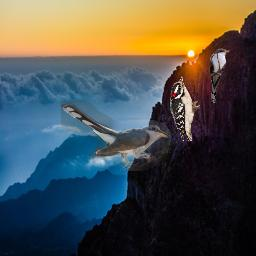Cuckoo: (61, 100, 171, 171), (209, 48, 230, 103)
Woodpecker: (170, 76, 200, 141)
